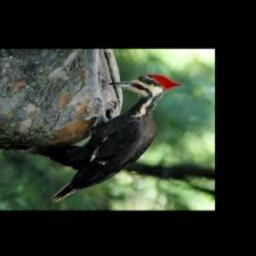Woodpecker: (50, 75, 183, 200)
